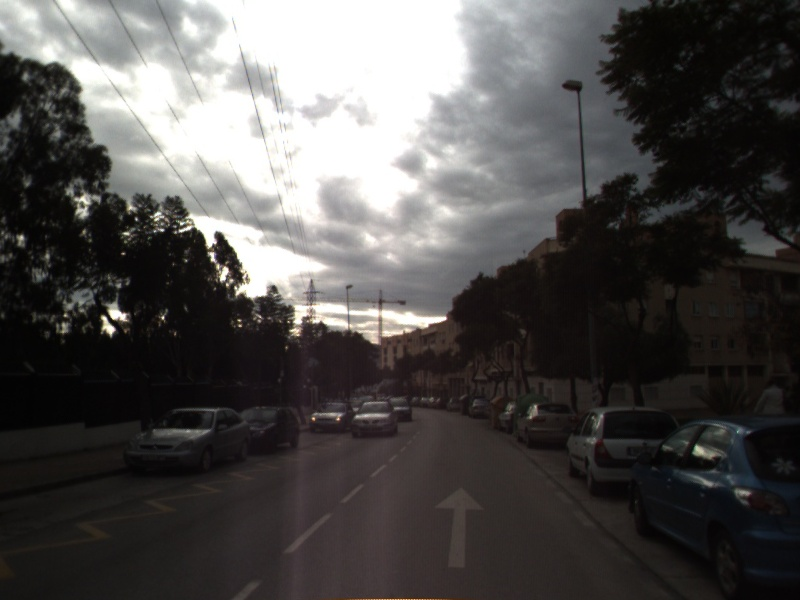STRAIGHT: (432, 485, 487, 569)
